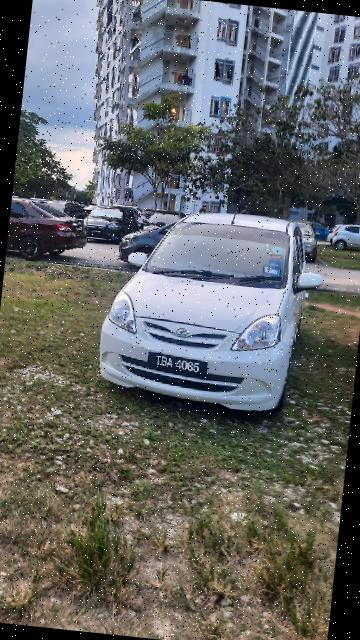License_Plate: (140, 348, 219, 385)
car: (93, 201, 332, 423), (6, 193, 91, 270)
